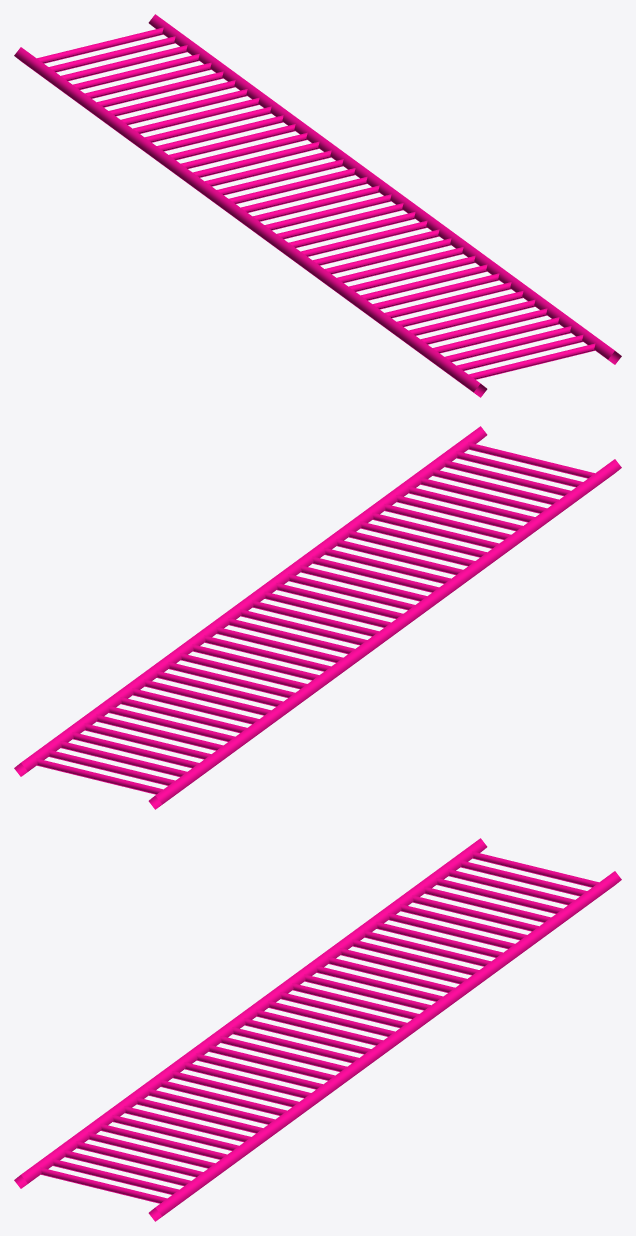
The model's file is échelle_inf_public_accessible_tri.obj.
The picture shows the model from 3 angles, top to bottom: view 1: azimuth 30°, elevation 25°; view 2: azimuth 150°, elevation 25°; view 3: azimuth 330°, elevation 25°; orthographic projection.
Visible parts, largest first — view 1: échelle_inf_public_accessible_tri_0; view 2: échelle_inf_public_accessible_tri_0; view 3: échelle_inf_public_accessible_tri_0.
Part boxes in pixels (x1=…): échelle_inf_public_accessible_tri_0: x1=14, y1=14, x2=621, y2=397; échelle_inf_public_accessible_tri_0: x1=14, y1=426, x2=621, y2=809; échelle_inf_public_accessible_tri_0: x1=14, y1=838, x2=621, y2=1221.
Bounding box in the file's own units: 1.07 × 0.1 × 5.75.
